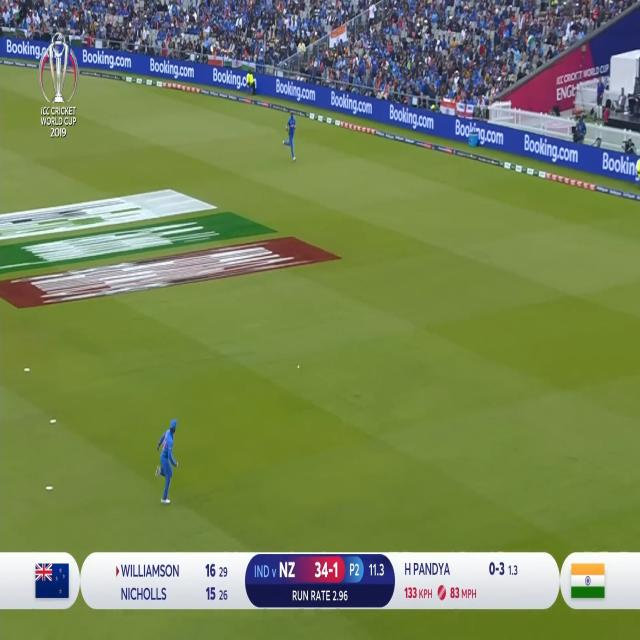ball: (296, 363, 301, 372)
